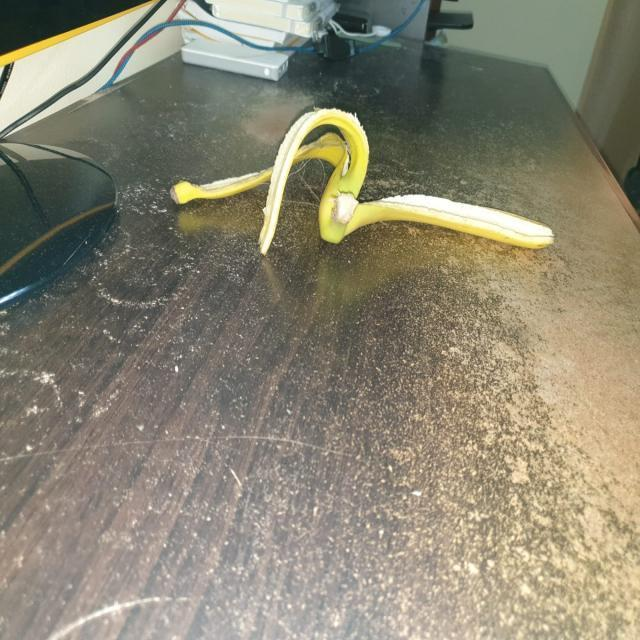banana-peel: (169, 106, 554, 256)
